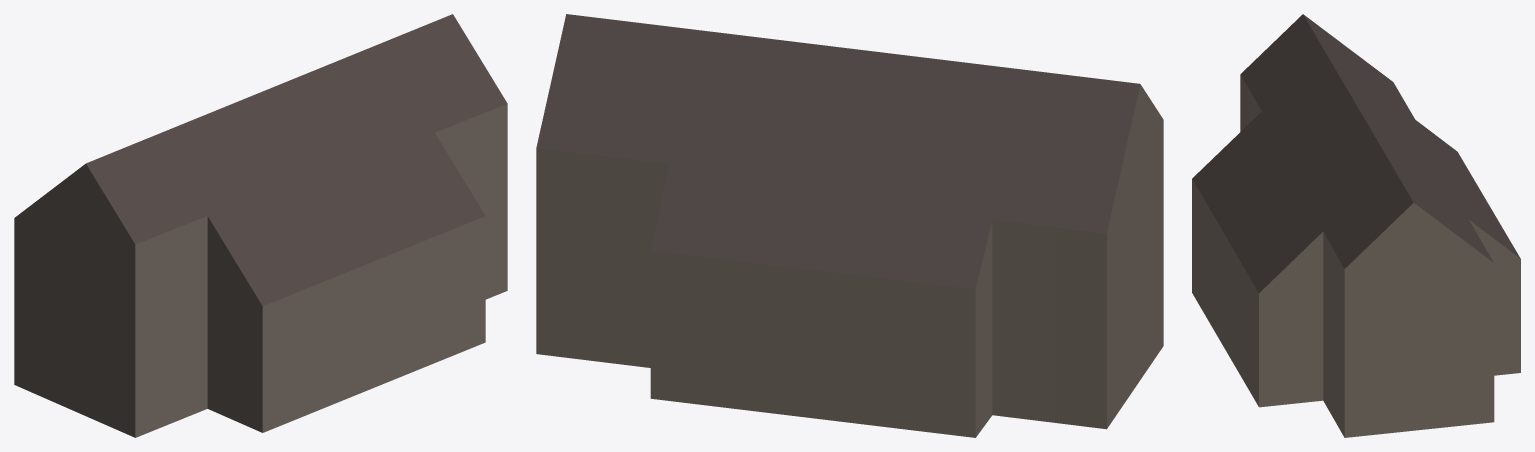
3 views of the same model, side by side, from view 1: azimuth 30°, elevation 25°; view 2: azimuth 150°, elevation 25°; view 3: azimuth 270°, elevation 25° (orthographic). The views are drawn at different scales.
Visible parts, largest first — view 1: HP-w428179905; view 2: HP-w428179905; view 3: HP-w428179905.
Part boxes in pixels (box(x1,y1,x2,y2)): HP-w428179905: box(14, 14, 507, 437); HP-w428179905: box(536, 14, 1163, 437); HP-w428179905: box(1192, 14, 1520, 437).
Size of the model in its own units: 11.59 by 6 by 7.84.
